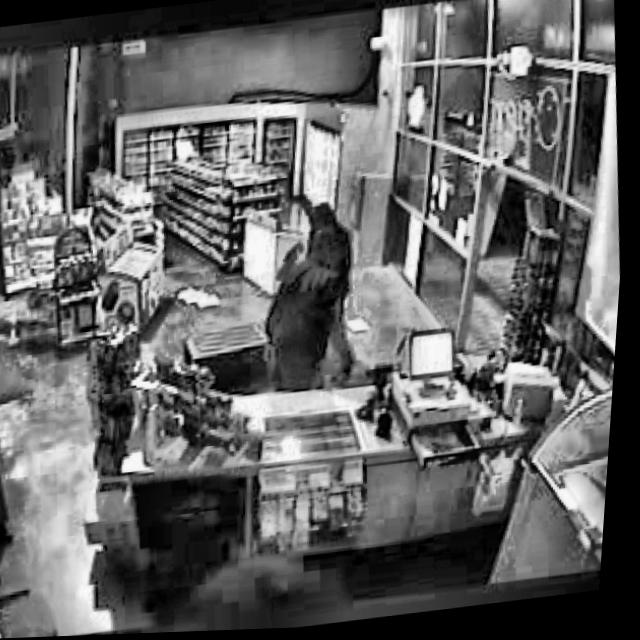burglary: (253, 192, 377, 402)
